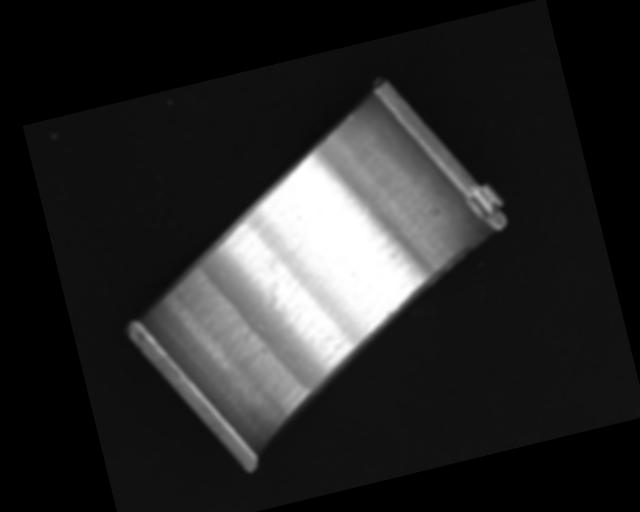nick: (348, 112, 360, 126)
